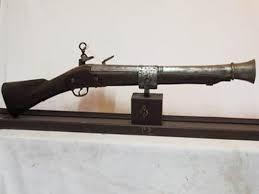larga: (0, 40, 257, 120)
